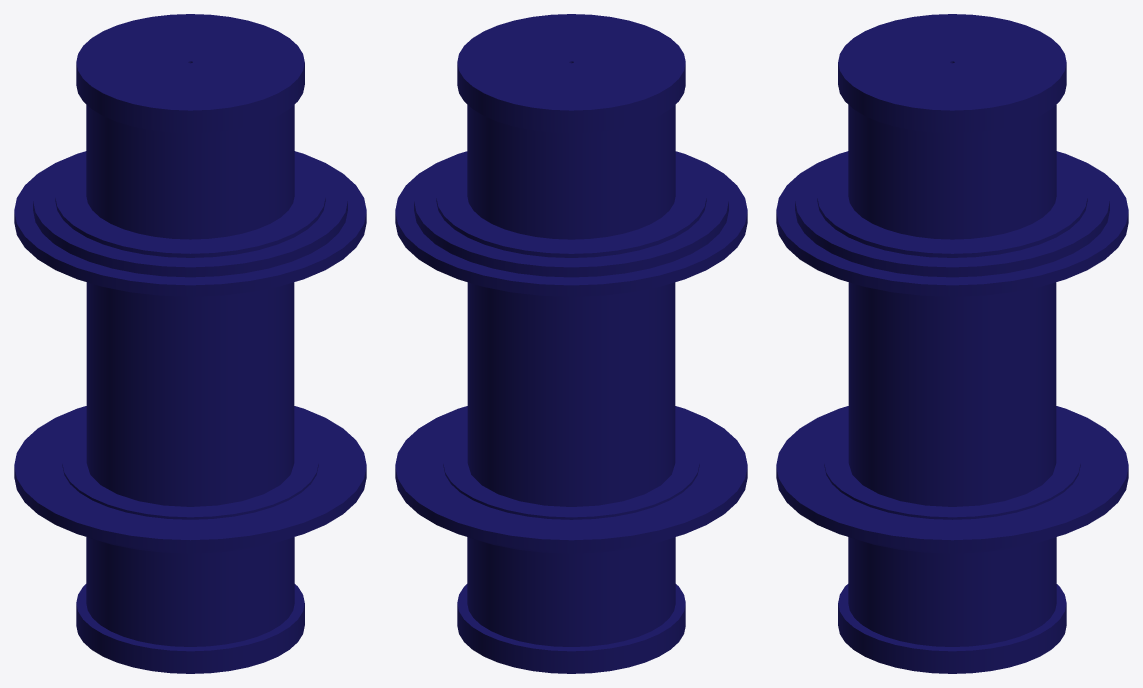
File: rlar individual UVW maps.FBX
The picture shows the model from 3 angles, left to right: view 1: azimuth 30°, elevation 25°; view 2: azimuth 150°, elevation 25°; view 3: azimuth 270°, elevation 25°; orthographic projection.
Parts seen in each view (by area): view 1: Tube005, Tube011, Cylinder002, Tube003, Cylinder003, Tube007, Tube008, Tube009, Tube012, Tube004; view 2: Tube005, Tube011, Cylinder002, Tube003, Cylinder003, Tube007, Tube008, Tube009, Tube012, Tube004; view 3: Tube005, Tube011, Cylinder002, Tube003, Cylinder003, Tube007, Tube008, Tube009, Tube012, Tube004.
Boxes of the visible parts, x1=… form: Tube005: x1=86, y1=282, x2=294, y2=506; Tube011: x1=76, y1=14, x2=304, y2=133; Cylinder002: x1=86, y1=104, x2=294, y2=239; Tube003: x1=14, y1=406, x2=366, y2=551; Cylinder003: x1=86, y1=537, x2=294, y2=646; Tube007: x1=14, y1=151, x2=366, y2=296; Tube008: x1=33, y1=151, x2=347, y2=277; Tube009: x1=55, y1=160, x2=325, y2=257; Tube012: x1=76, y1=584, x2=304, y2=673; Tube004: x1=62, y1=432, x2=318, y2=519; Tube005: x1=467, y1=282, x2=675, y2=506; Tube011: x1=457, y1=14, x2=685, y2=133; Cylinder002: x1=467, y1=104, x2=675, y2=239; Tube003: x1=395, y1=406, x2=747, y2=551; Cylinder003: x1=467, y1=537, x2=675, y2=646; Tube007: x1=395, y1=151, x2=747, y2=296; Tube008: x1=414, y1=151, x2=728, y2=277; Tube009: x1=436, y1=161, x2=706, y2=257; Tube012: x1=457, y1=584, x2=685, y2=673; Tube004: x1=443, y1=432, x2=699, y2=519; Tube005: x1=848, y1=282, x2=1056, y2=506; Tube011: x1=838, y1=14, x2=1066, y2=133; Cylinder002: x1=848, y1=104, x2=1056, y2=239; Tube003: x1=776, y1=406, x2=1128, y2=551; Cylinder003: x1=848, y1=537, x2=1056, y2=646; Tube007: x1=776, y1=151, x2=1128, y2=296; Tube008: x1=795, y1=151, x2=1109, y2=277; Tube009: x1=817, y1=160, x2=1087, y2=257; Tube012: x1=838, y1=584, x2=1066, y2=673; Tube004: x1=824, y1=432, x2=1080, y2=519.
Size of the model in its own units: 300787 by 530292 by 300787.
